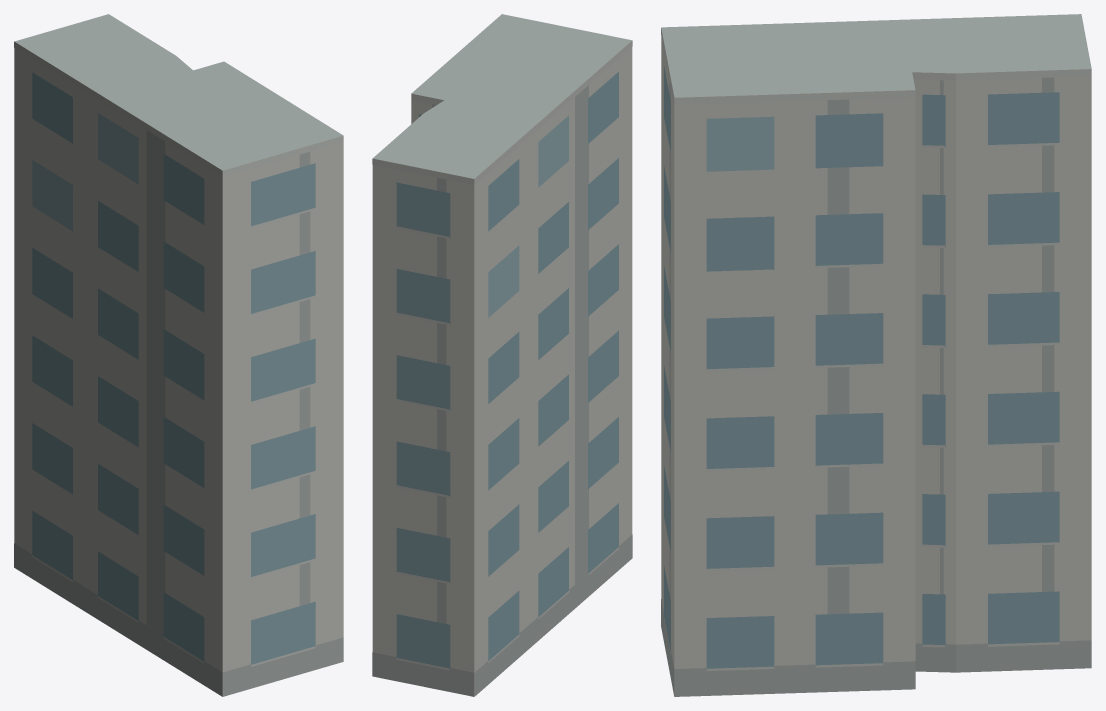
Rendered from survey-upis-32965803.glb.
3 renders of one model, left to right at view 1: azimuth 30°, elevation 25°; view 2: azimuth 150°, elevation 25°; view 3: azimuth 270°, elevation 25°, orthographic. The views are drawn at different scales.
Parts seen in each view (by area): view 1: survey-upis-32965803.tmp; view 2: survey-upis-32965803.tmp; view 3: survey-upis-32965803.tmp.
Part boxes in pixels (<box>): survey-upis-32965803.tmp: <box>14,14,343,696</box>; survey-upis-32965803.tmp: <box>372,14,632,696</box>; survey-upis-32965803.tmp: <box>661,14,1091,696</box>.
Bounding box in the file's own units: 6.06 × 20.2 × 13.17.
